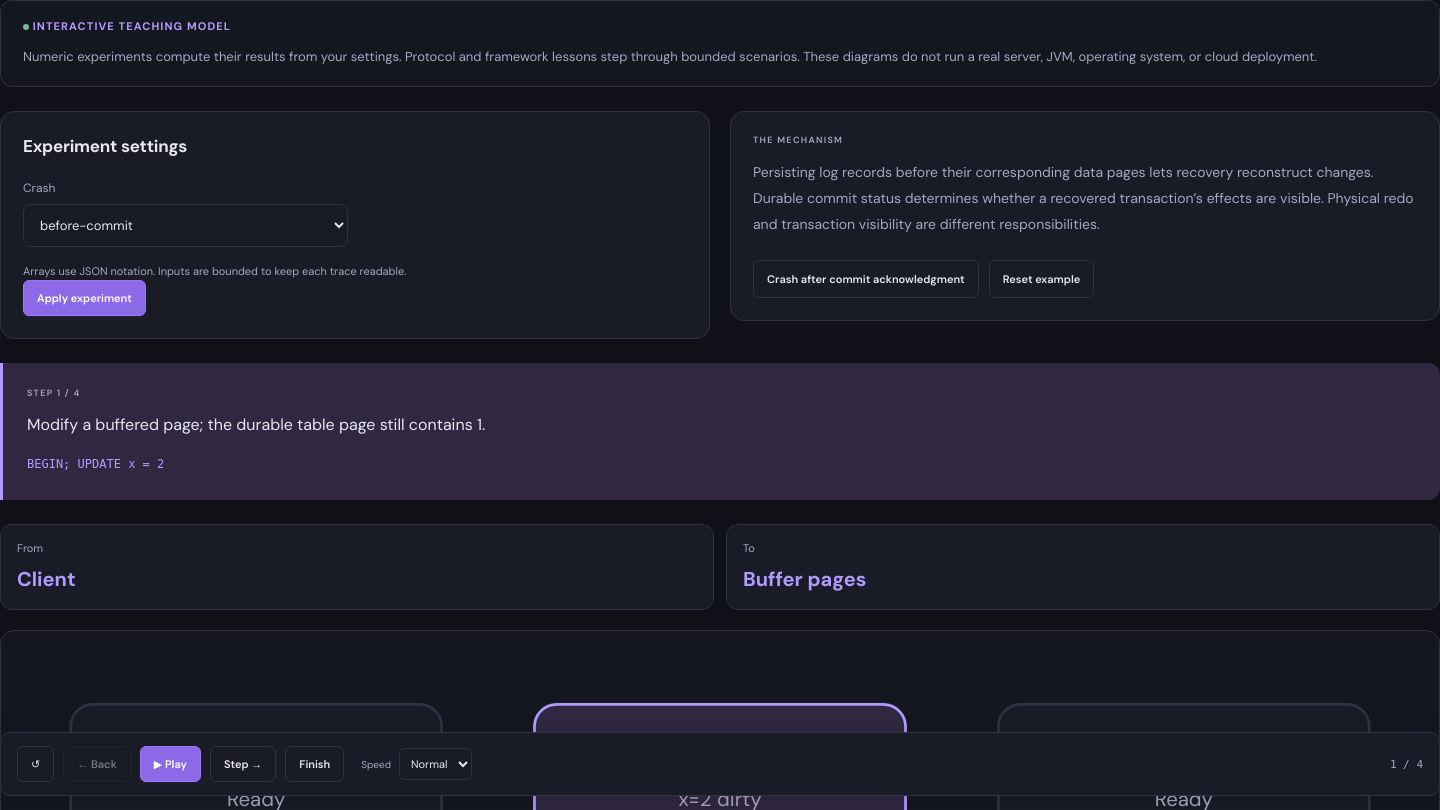
Test: db-wal renders and supports finish, back, contrast and reset
Click the button "Finish". click: {"x": 315, "y": 764}
box: [285,746,344,782]
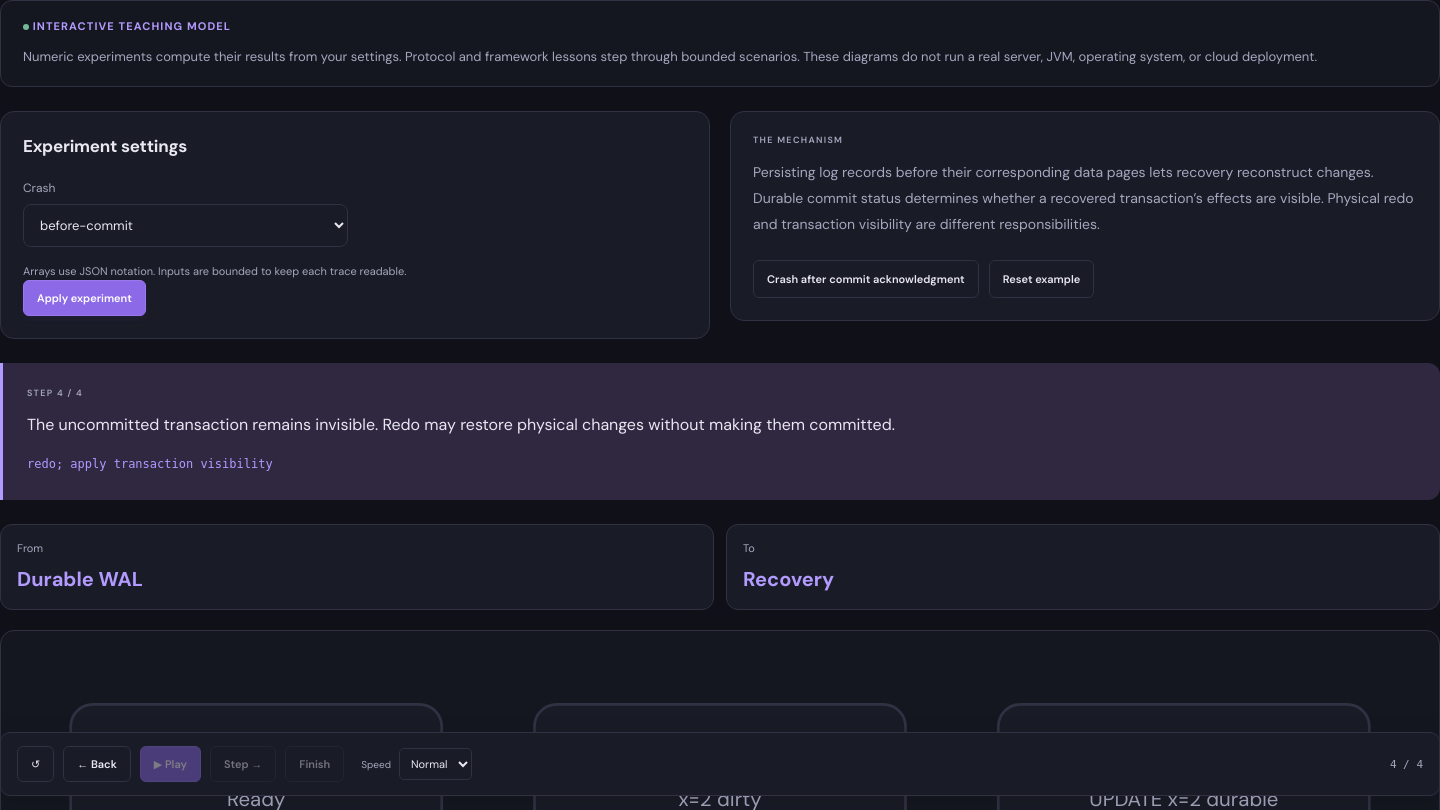
Click the button "← Back". click: {"x": 97, "y": 764}
box: [63,746,131,782]
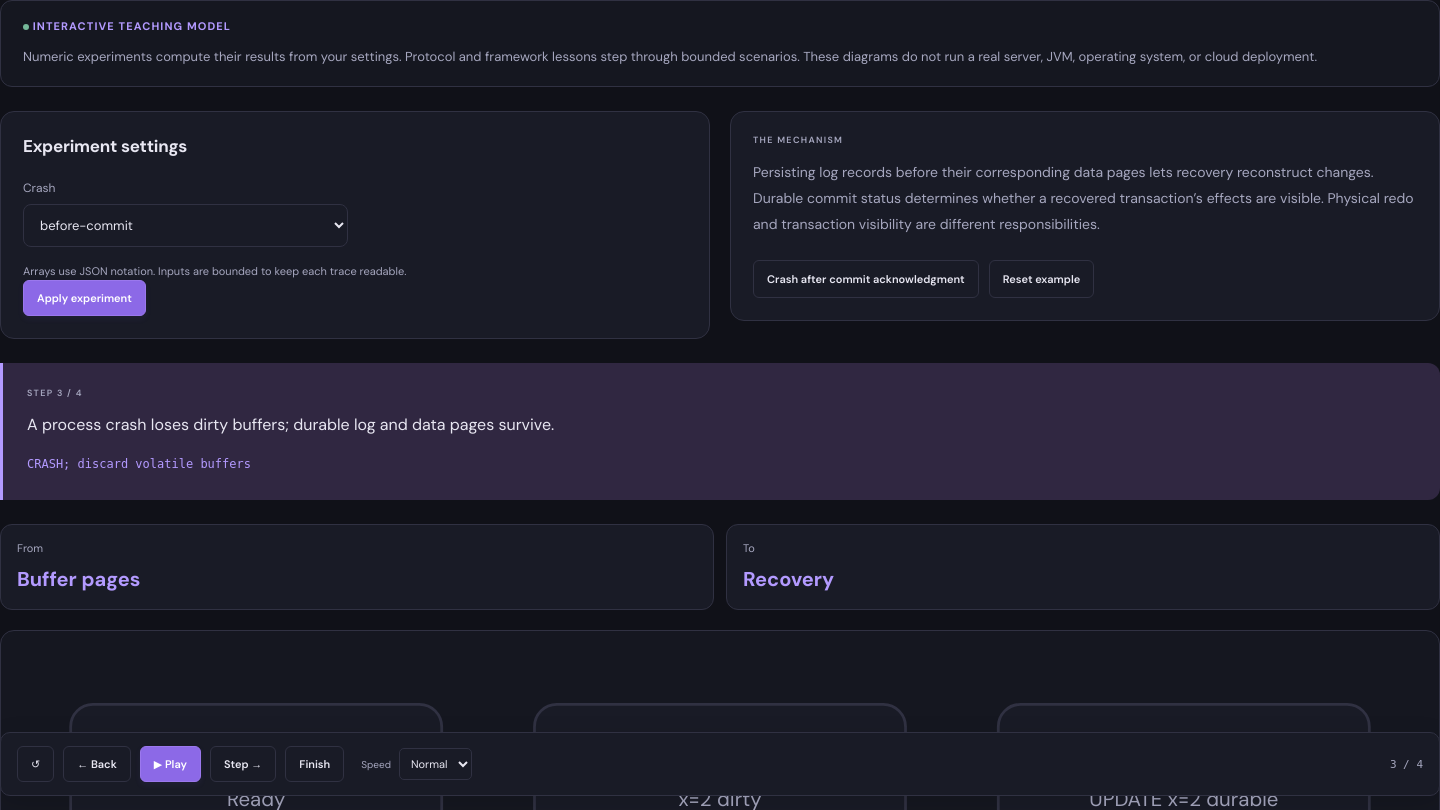
Click the button "Crash after commit acknowledgment". click: {"x": 866, "y": 279}
box: [753,260,979,298]
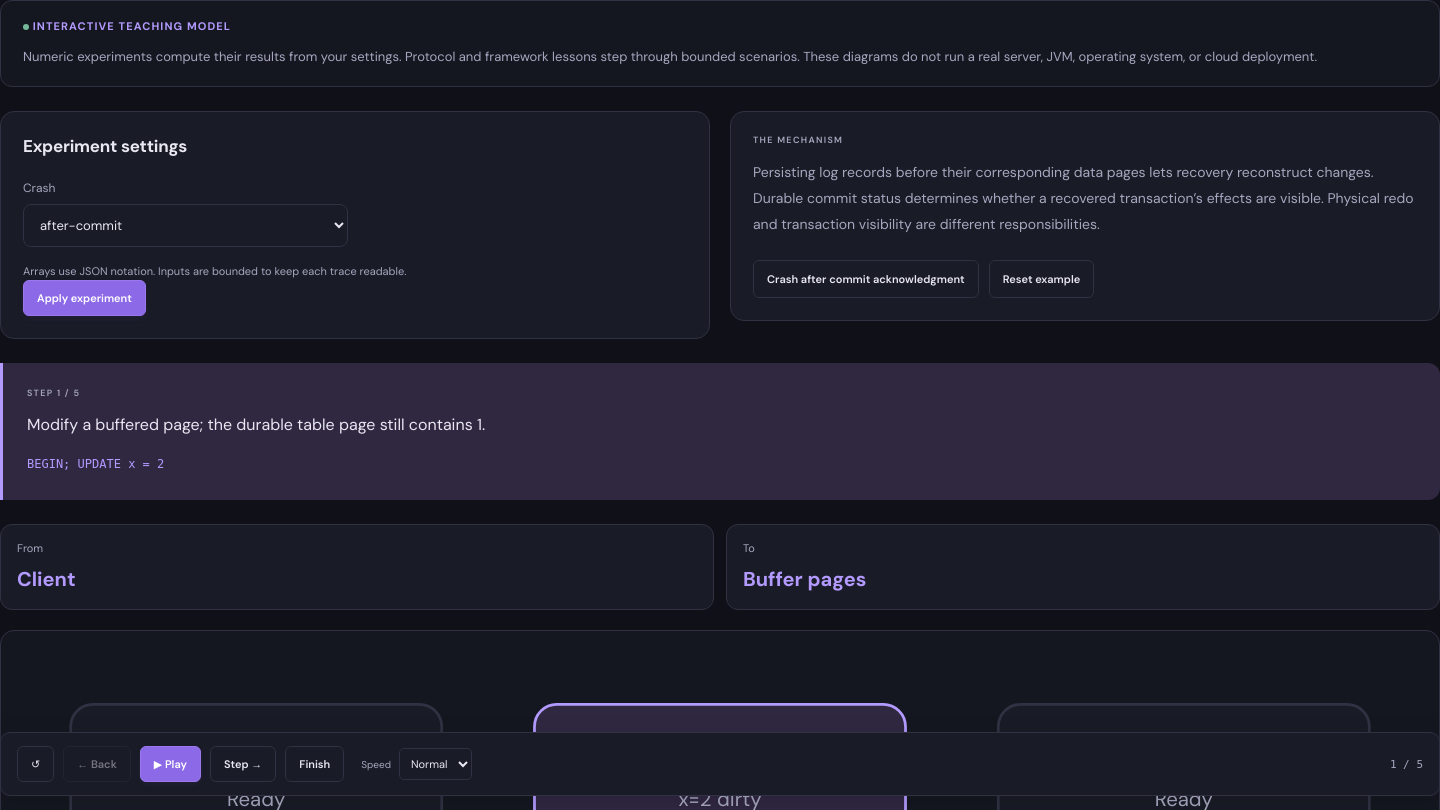
Now the message with class "systems-current" shows "STEP 1 /", box [0,363,1439,500]
Click the button "Reset example". click: {"x": 1041, "y": 279}
box: [989,260,1094,298]
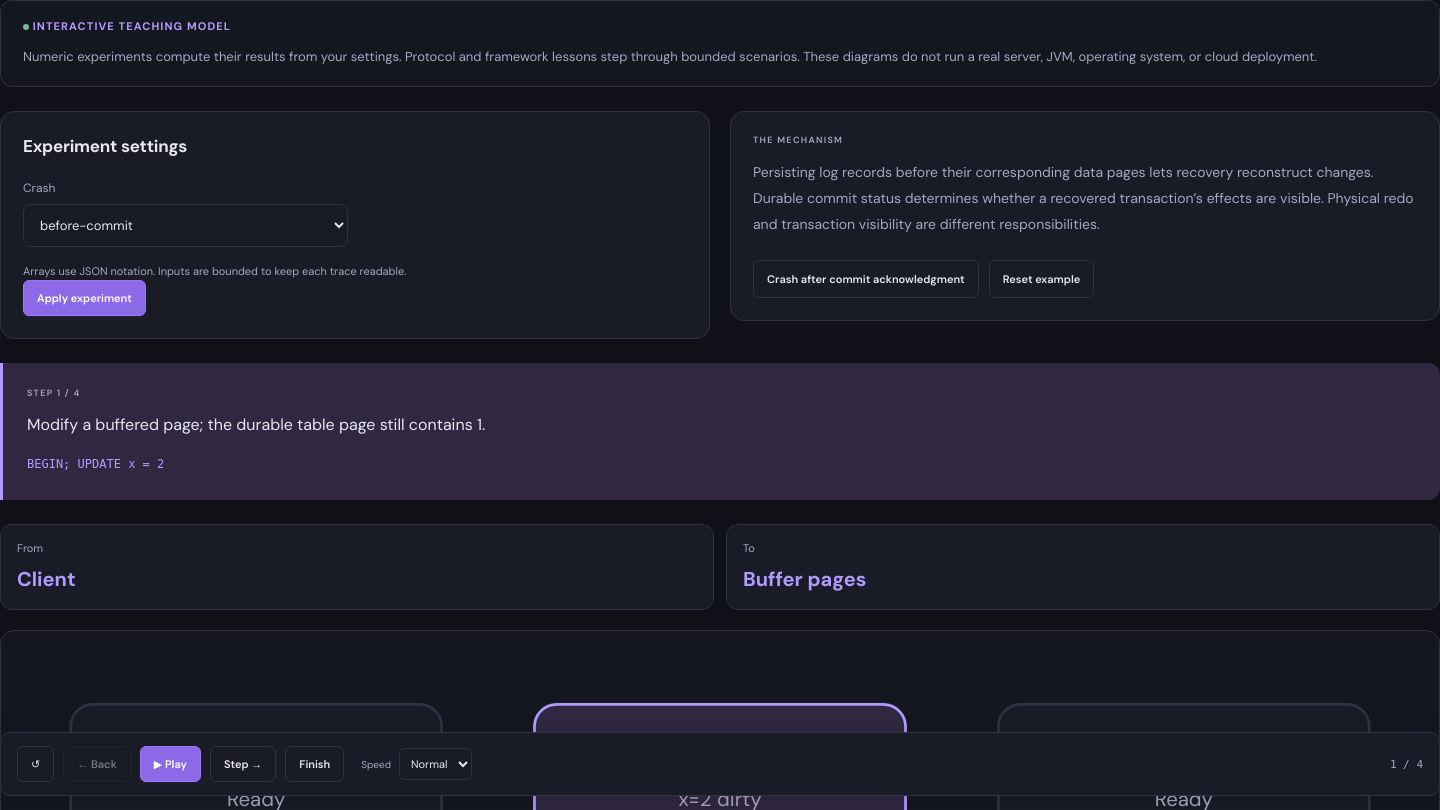
Now the dropdown labelled "Crash" shows "before-commit", box [23,204,348,247]
